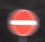No entry: (6, 6, 40, 37)
